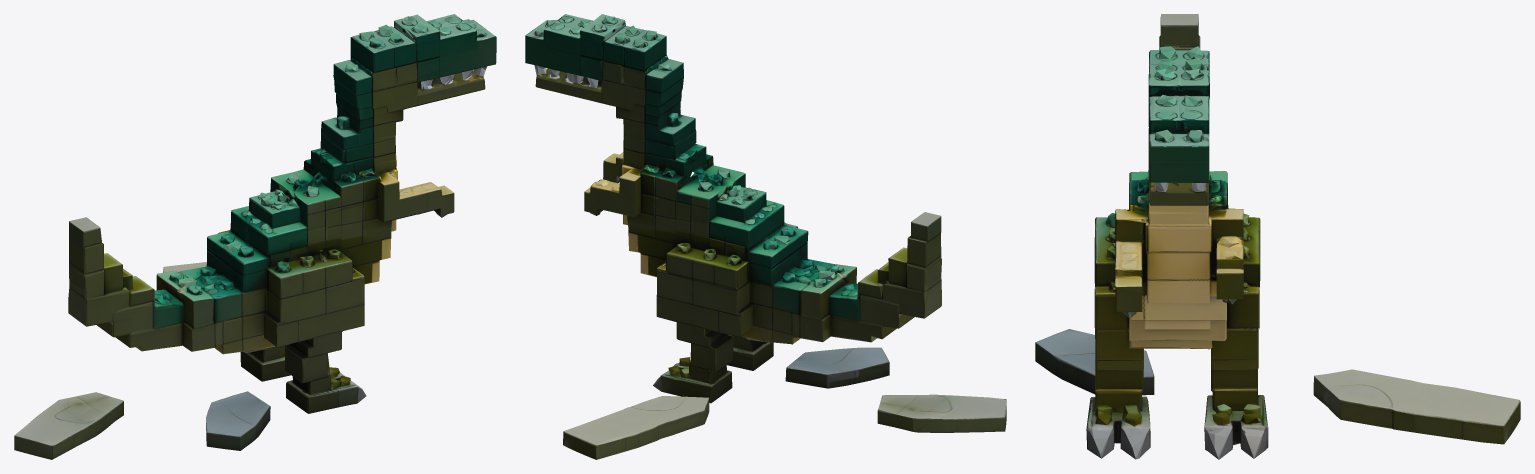
The model's file is dinosaur.glb.
3 renders of one model, left to right at view 1: azimuth 30°, elevation 25°; view 2: azimuth 150°, elevation 25°; view 3: azimuth 270°, elevation 25°, orthographic. The views are drawn at different scales.
Parts seen in each view (by area): view 1: tripo_node_449780ba-d852-462e-99b9-18a1860cf9bb; view 2: tripo_node_449780ba-d852-462e-99b9-18a1860cf9bb; view 3: tripo_node_449780ba-d852-462e-99b9-18a1860cf9bb.
Part boxes in pixels (x1,y1,x2,y2): tripo_node_449780ba-d852-462e-99b9-18a1860cf9bb: [14, 14, 496, 459]; tripo_node_449780ba-d852-462e-99b9-18a1860cf9bb: [525, 14, 1006, 459]; tripo_node_449780ba-d852-462e-99b9-18a1860cf9bb: [1035, 14, 1520, 459].
Size of the model in its own units: 1 by 0.6684 by 0.6724.
1 material, 1 textured.
